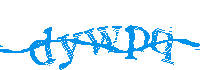d: (30, 27, 54, 65)
p: (126, 25, 149, 62)
q: (151, 27, 174, 68)
w: (84, 27, 121, 55)
y: (58, 32, 82, 70)
